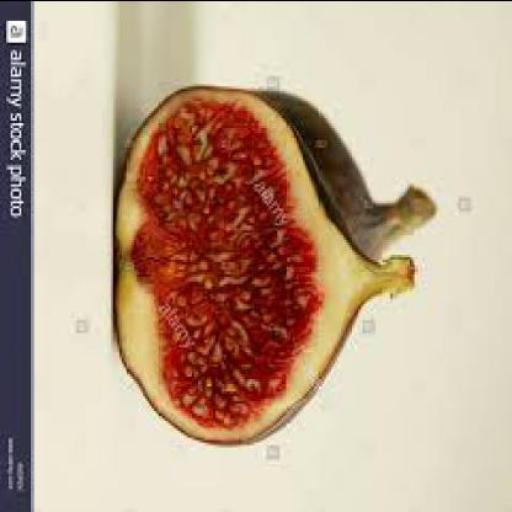biodegradable: (117, 81, 418, 441), (222, 86, 436, 260)
